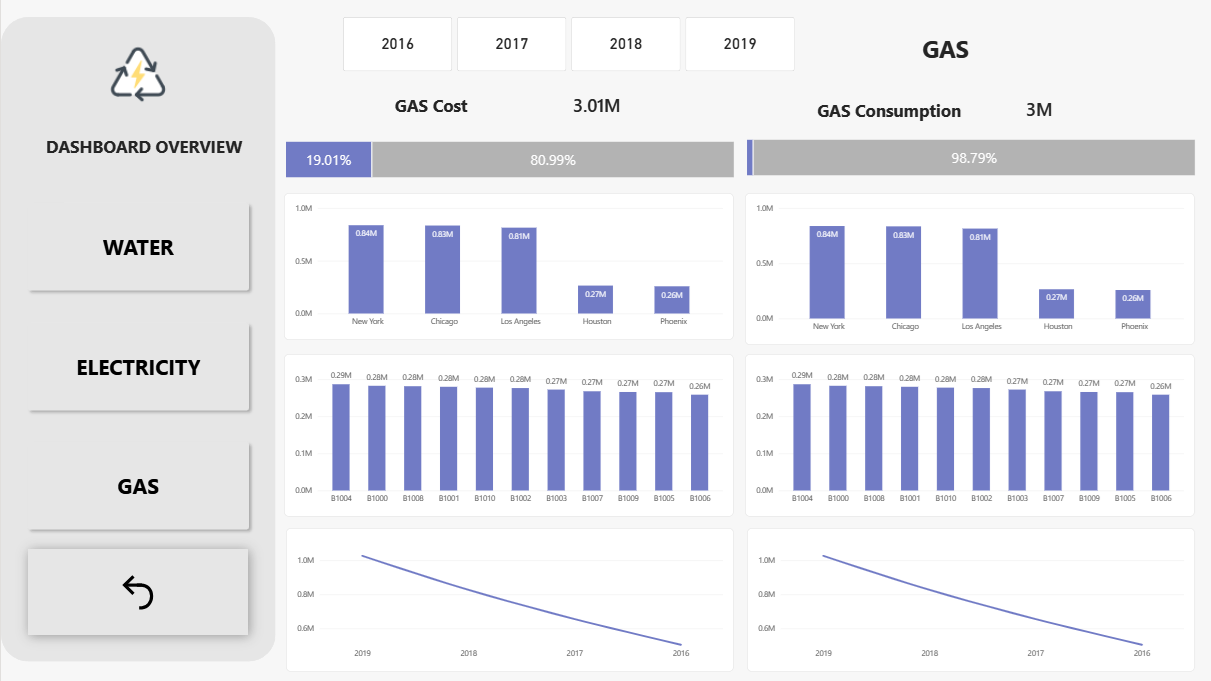

This screenshot's page, from the dashboard's own definition file:
{"tool":"powerbi","page":{"name":"GAS","canvas":[1920,1080],"ordinal":3},"visuals":[{"type":"textbox","box":[1257.3,53.9,480.4,65],"z":0},{"type":"shape","box":[0,28.7,435.4,1022],"z":1000},{"type":"textbox","box":[52.9,216.2,349.2,51.4],"z":2000},{"type":"actionButton","box":[33.3,314.5,368.9,157.2],"z":3000},{"type":"actionButton","box":[33.3,503.4,368.9,157.2],"z":4000},{"type":"actionButton","box":[33.3,692.4,368.9,157.2],"z":5000},{"type":"actionButton","box":[42.3,872.3,349.2,136.1],"z":6000},{"type":"image","box":[99.8,65,235.8,108.9],"z":7000},{"type":"clusteredColumnChart","fields":{"Category":["Building Master.City"],"Y":["Kpis.Gas Cost"]},"box":[448.7,307.6,713.5,233.1],"z":8000},{"type":"cardVisual","fields":{"Data":["Kpis.Gas Cost"]},"box":[891,133.2,172.8,69.8],"z":9000},{"type":"cardVisual","fields":{"Data":["Kpis.Gas Consumption"]},"box":[1609.2,139.5,187.1,69.8],"z":10000},{"type":"advancedSlicerVisual","fields":{"Values":["Energy Consumptions.Year"]},"box":[542.2,28.5,718.1,86.2],"z":11000},{"type":"textbox","box":[507.3,150.6,349.2,51.4],"z":12000},{"type":"textbox","box":[1233.5,158.5,349.2,51.4],"z":13000},{"type":"clusteredColumnChart","fields":{"Category":["Building Master.City"],"Y":["Kpis.Gas Cost"]},"box":[1179.6,307.6,713.5,241],"z":14000},{"type":"clusteredColumnChart","fields":{"Category":["Building Master.Building"],"Y":["Kpis.Gas Cost"]},"box":[448.7,562.8,713.5,258.4],"z":15000},{"type":"clusteredColumnChart","fields":{"Category":["Building Master.Building"],"Y":["Kpis.Gas Cost"]},"box":[1179.6,562.8,713.5,258.4],"z":16000},{"type":"lineChart","fields":{"Category":["Energy Consumptions.Year"],"Y":["Kpis.Gas Cost"]},"box":[1182.8,838.7,710.3,228.3],"z":17000},{"type":"hundredPercentStackedBarChart","fields":{"Y":["Kpis.% Gas Cost","Kpis.GAS Cost Remaining %"]},"box":[451.9,190.3,710.3,120.5],"z":18000},{"type":"hundredPercentStackedBarChart","fields":{"Y":["Kpis.% Gas Consumption","Kpis.GAS Consumption Remaining %"]},"box":[1182.8,187.1,710.3,120.5],"z":19000},{"type":"lineChart","fields":{"Category":["Energy Consumptions.Year"],"Y":["Kpis.Gas Cost"]},"box":[451.9,838.7,710.3,228.3],"z":20000}]}

Visuals, with their boxes in screenshot pixels (x1, y1, x2, y2), scaled from the page's 1920x1080 canvas onto the 1211x681 screenshot:
textbox: [793, 34, 1096, 75]
shape: [0, 18, 275, 663]
textbox: [33, 136, 254, 169]
actionButton: [21, 198, 254, 297]
actionButton: [21, 317, 254, 417]
actionButton: [21, 437, 254, 536]
actionButton: [27, 550, 247, 636]
image: [63, 41, 212, 110]
clusteredColumnChart - Building Master.City x Kpis.Gas Cost: [283, 194, 733, 341]
cardVisual - Kpis.Gas Cost: [562, 84, 671, 128]
cardVisual - Kpis.Gas Consumption: [1015, 88, 1133, 132]
advancedSlicerVisual - Energy Consumptions.Year: [342, 18, 795, 72]
textbox: [320, 95, 540, 127]
textbox: [778, 100, 998, 132]
clusteredColumnChart - Building Master.City x Kpis.Gas Cost: [744, 194, 1194, 346]
clusteredColumnChart - Building Master.Building x Kpis.Gas Cost: [283, 355, 733, 518]
clusteredColumnChart - Building Master.Building x Kpis.Gas Cost: [744, 355, 1194, 518]
lineChart - Energy Consumptions.Year x Kpis.Gas Cost: [746, 529, 1194, 673]
hundredPercentStackedBarChart - Kpis.% Gas Cost x Kpis.GAS Cost Remaining %: [285, 120, 733, 196]
hundredPercentStackedBarChart - Kpis.% Gas Consumption x Kpis.GAS Consumption Remaining %: [746, 118, 1194, 194]
lineChart - Energy Consumptions.Year x Kpis.Gas Cost: [285, 529, 733, 673]
